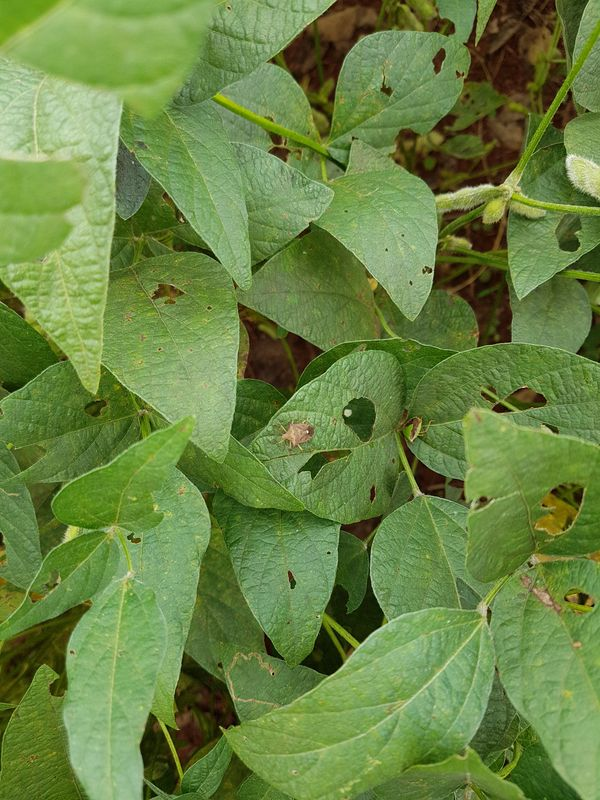Edessa_meditabunda: (393, 410, 437, 454)
Euschistus_heros_adulto: (271, 411, 323, 459)
